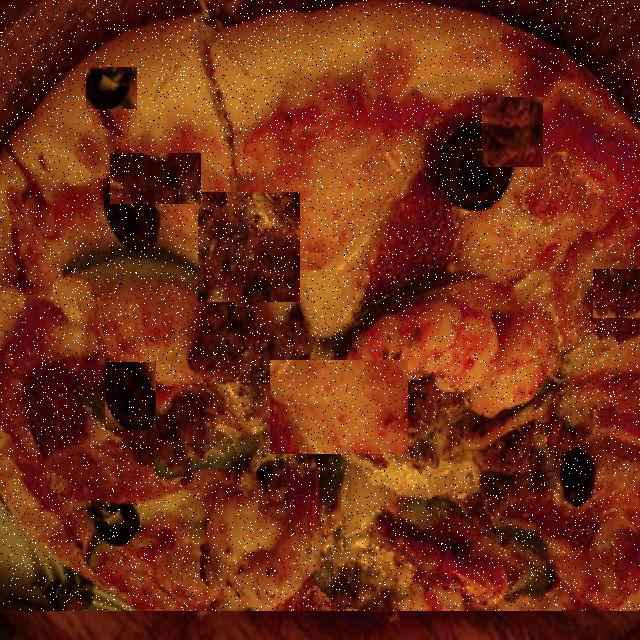Beef: (198, 192, 300, 302), (110, 153, 201, 204), (482, 97, 543, 167), (381, 174, 439, 222), (593, 269, 640, 318)
Cheese: (270, 360, 408, 454)
Olives: (436, 399, 510, 477), (106, 362, 158, 430), (554, 101, 596, 157), (86, 67, 137, 109)
Pizza: (0, 0, 640, 611)
